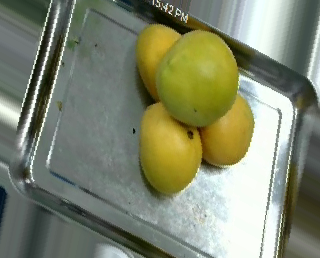Mango: (154, 27, 241, 128), (137, 100, 204, 198), (134, 21, 192, 103), (197, 89, 255, 169)
